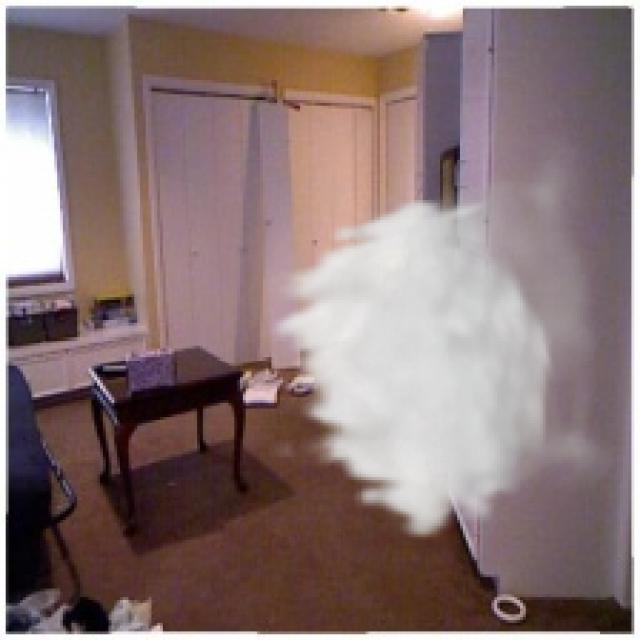smoke: (263, 123, 623, 543)
